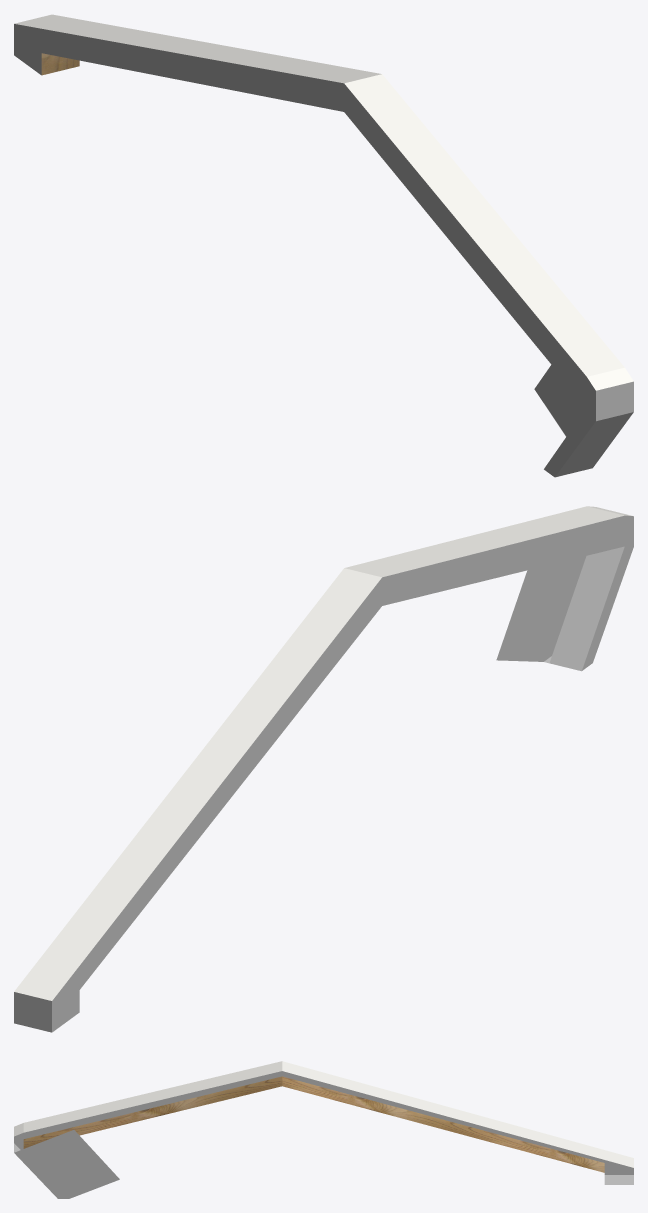
Rendered from Quaker Sheds_6in_Overhang_12ft.obj.
3 views of the same model, one above another, from view 1: azimuth 30°, elevation 25°; view 2: azimuth 150°, elevation 25°; view 3: azimuth 270°, elevation 25° (orthographic). The views are drawn at different scales.
Visible parts, largest first — view 1: Sides, Roof; view 2: Sides, Roof; view 3: Sides, Roof, Shed.
Part boxes in pixels (left/top/right/bottom): Sides: left=14, top=24, right=633, bottom=477; Roof: left=14, top=14, right=633, bottom=390; Sides: left=14, top=515, right=633, bottom=1032; Roof: left=14, top=506, right=633, bottom=1000; Sides: left=14, top=1071, right=633, bottom=1198; Roof: left=14, top=1061, right=633, bottom=1167; Shed: left=23, top=1076, right=604, bottom=1172.
Size of the model in its own units: 0.1514 by 0.912 by 4.01.
